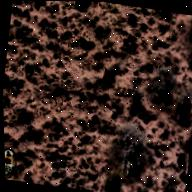boar: (98, 59, 136, 87)
